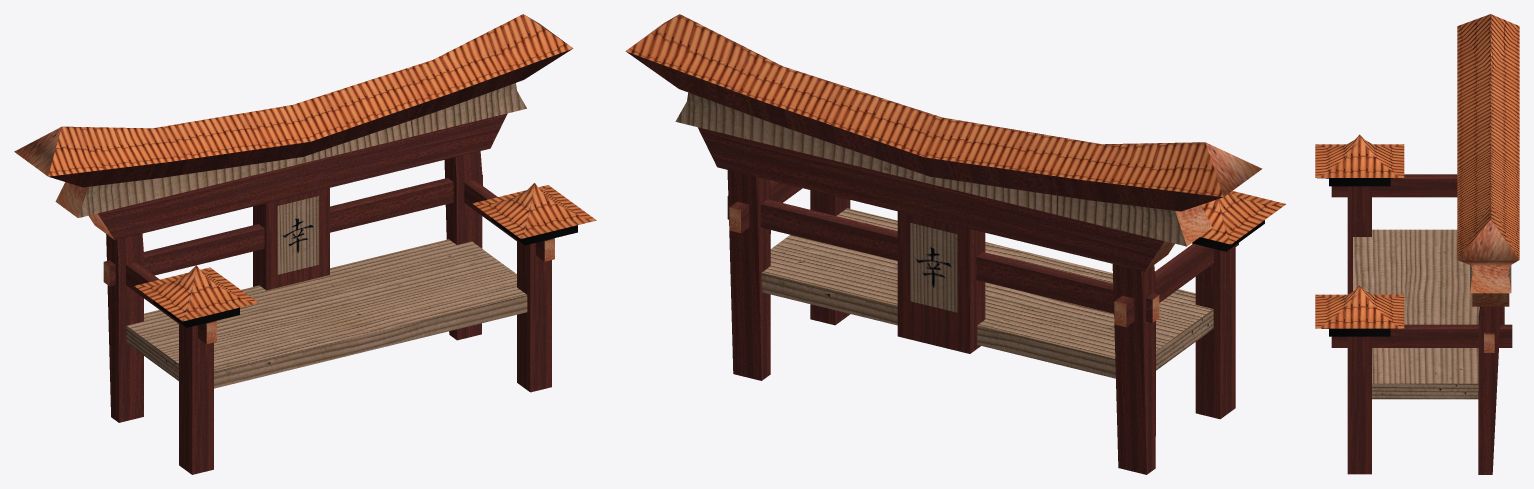
Rendered from Bench.FBX.
3 views of the same model, side by side, from view 1: azimuth 30°, elevation 25°; view 2: azimuth 150°, elevation 25°; view 3: azimuth 270°, elevation 25° (orthographic). The views are drawn at different scales.
Parts seen in each view (by area): view 1: Box014, Box011, Box003, Box004, Box010, Box005, Box007, Box006, Box001, Box012, Box013, Box002 (+2 smaller); view 2: Box014, Box011, Box003, Box004, Box005, Box010, Box007, Box002, Box006, Box013, Box009, Box001 (+1 smaller); view 3: Box014, Box011, Box013, Box012, Box001, Box002, Box008, Box009, Box006, Box004, Box003, Box010.
Boxes of the visible parts, x1,y1,x2,y2 form: Box014: [14, 14, 573, 187]; Box011: [126, 239, 527, 388]; Box003: [88, 113, 507, 239]; Box004: [55, 83, 526, 217]; Box010: [103, 175, 482, 286]; Box005: [253, 188, 329, 290]; Box007: [106, 233, 143, 422]; Box006: [179, 322, 213, 474]; Box001: [517, 240, 551, 392]; Box012: [472, 183, 596, 245]; Box013: [134, 265, 258, 327]; Box002: [444, 151, 482, 340]; Box014: [625, 14, 1262, 211]; Box011: [761, 208, 1213, 378]; Box003: [698, 127, 1174, 271]; Box004: [675, 92, 1212, 246]; Box005: [897, 211, 985, 353]; Box010: [727, 196, 1159, 322]; Box007: [1112, 264, 1155, 474]; Box002: [727, 170, 770, 380]; Box006: [1195, 245, 1235, 419]; Box013: [1192, 191, 1285, 251]; Box009: [1114, 243, 1238, 327]; Box001: [810, 190, 850, 325]; Box014: [1457, 14, 1519, 265]; Box011: [1353, 229, 1479, 399]; Box013: [1315, 134, 1404, 186]; Box012: [1315, 285, 1404, 336]; Box001: [1347, 336, 1371, 474]; Box002: [1478, 306, 1501, 474]; Box008: [1331, 324, 1512, 347]; Box009: [1331, 174, 1457, 197]; Box006: [1347, 186, 1371, 293]; Box004: [1470, 265, 1511, 293]; Box003: [1472, 293, 1509, 306]; Box010: [1484, 332, 1494, 352].
Size of the model in its own units: 1.08 by 0.4001 by 0.5988.
